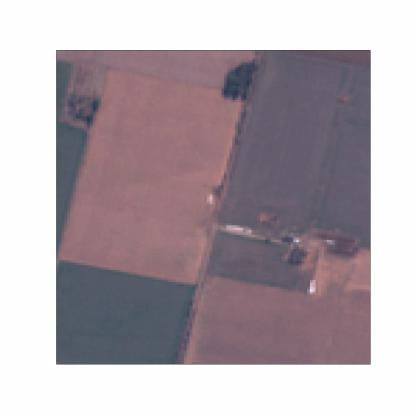silobolsa: (223, 223, 254, 237), (306, 276, 317, 296)
